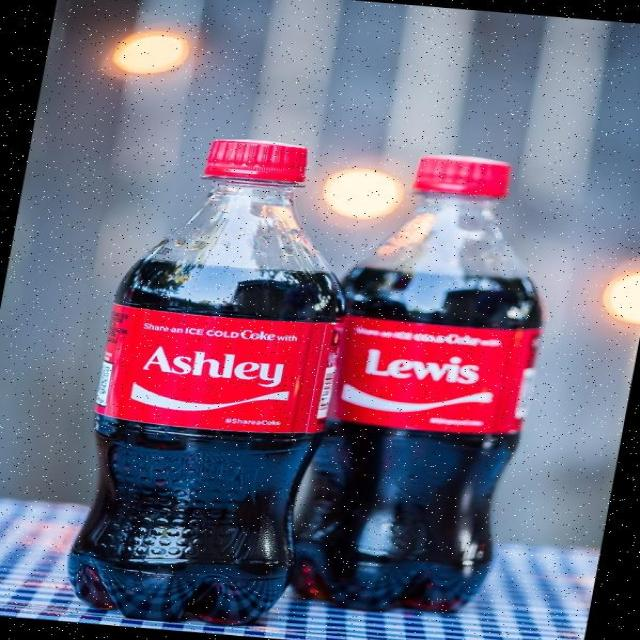coca-cola: (46, 125, 379, 633), (281, 144, 584, 627)
